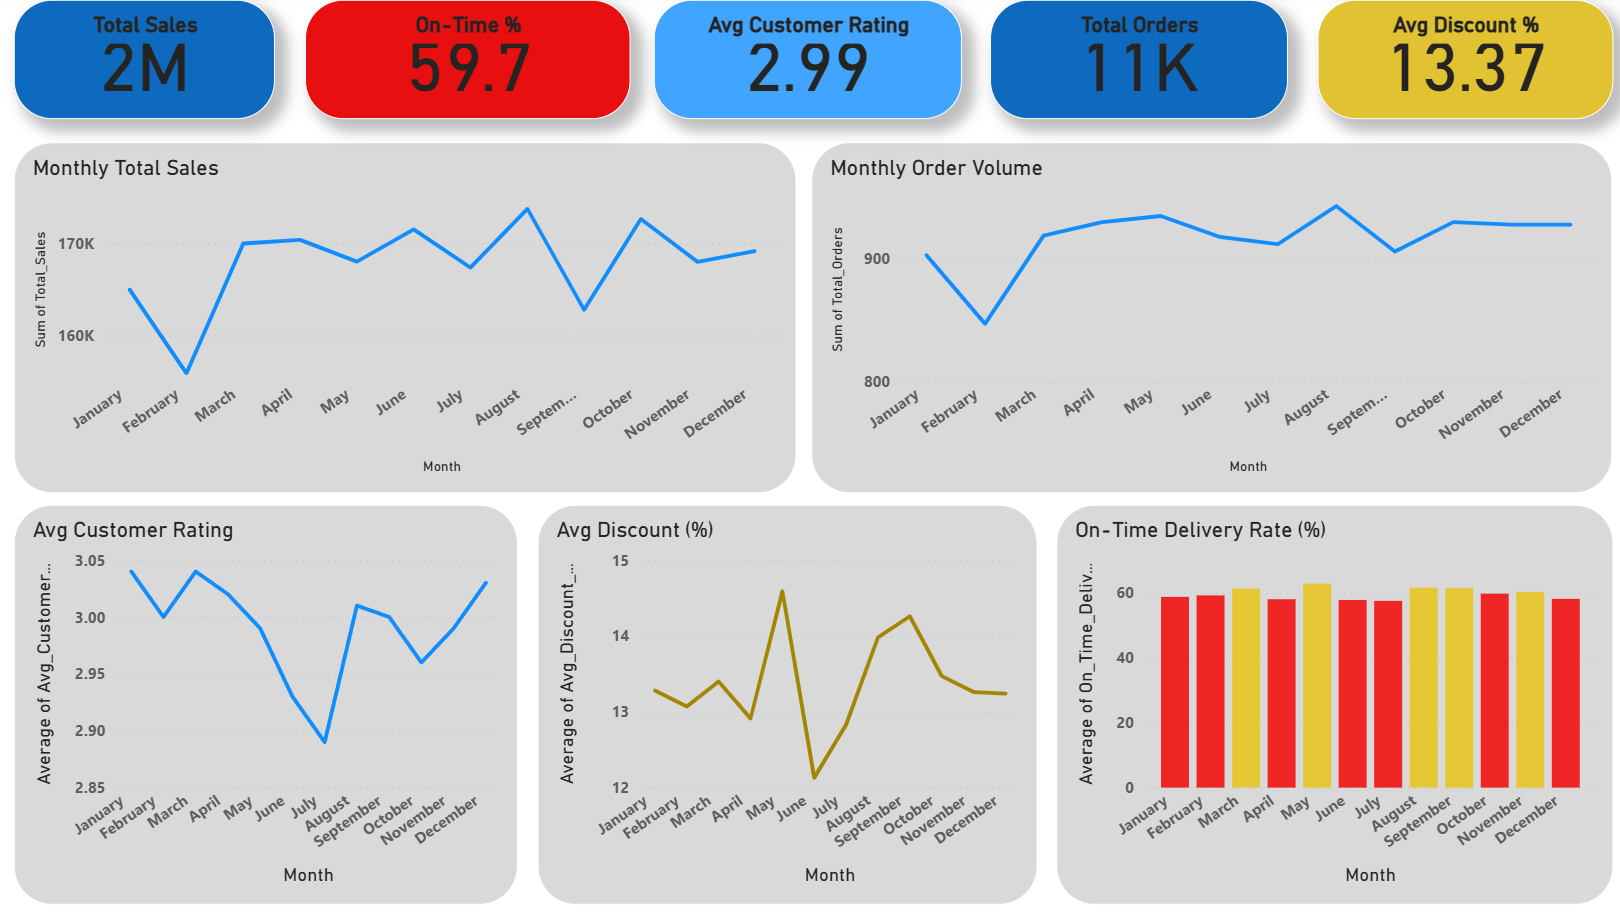

The page's visual inventory and layout, read from the dashboard file:
{"tool":"powerbi","page":{"name":"SQL-Based Supply Chain Insights","canvas":[1280,720],"ordinal":0},"visuals":[{"type":"lineChart","title":"Monthly Order Volume","fields":{"Category":["SupplyChain_Sql_Insights.Month.Variation.Date Hierarchy.Month"],"Y":["Sum(SupplyChain_Sql_Insights.Total_Orders)"]},"box":[640,115,628.3,275],"z":0},{"type":"columnChart","title":"On-Time Delivery Rate (%)","fields":{"Category":["SupplyChain_Sql_Insights.Month.Variation.Date Hierarchy.Month"],"Y":["Avg(SupplyChain_Sql_Insights.On_Time_Delivery_Rate (%))"]},"box":[831.7,398.3,436.7,313.3],"z":1000},{"type":"lineChart","title":"Avg Customer Rating","fields":{"Category":["SupplyChain_Sql_Insights.Month.Variation.Date Hierarchy.Month"],"Y":["Avg(SupplyChain_Sql_Insights.Avg_Customer_Rating)"]},"box":[15,398.3,395,313.3],"z":2000},{"type":"lineChart","title":"Avg Discount (%)","fields":{"Category":["SupplyChain_Sql_Insights.Month.Variation.Date Hierarchy.Month"],"Y":["Avg(SupplyChain_Sql_Insights.Avg_Discount_Offered)"]},"box":[425,398.3,391.7,313.3],"z":3000},{"type":"lineChart","title":"Monthly Total Sales","fields":{"Category":["SupplyChain_Sql_Insights.Month.Variation.Date Hierarchy.Month"],"Y":["Sum(SupplyChain_Sql_Insights.Total_Sales)"]},"box":[15,115,613.3,275],"z":4000},{"type":"card","title":"Total Sales","fields":{"Values":["Sum(SupplyChain_Sql_Insights.Total_Sales)"]},"box":[15,3.3,205,93.3],"z":5000},{"type":"card","title":"On-Time %","fields":{"Values":["Avg(SupplyChain_Sql_Insights.On_Time_Delivery_Rate (%))"]},"box":[243.3,3.3,255,93.3],"z":6000},{"type":"card","title":"Avg Customer Rating","fields":{"Values":["Avg(SupplyChain_Sql_Insights.Avg_Customer_Rating)"]},"box":[516.7,3.3,241.7,93.3],"z":7000},{"type":"card","title":"Total Orders","fields":{"Values":["Sum(SupplyChain_Sql_Insights.Total_Orders)"]},"box":[780,3.3,233.3,93.3],"z":8000},{"type":"card","title":"Avg Discount %","fields":{"Values":["Avg(SupplyChain_Sql_Insights.Avg_Discount_Offered)"]},"box":[1036.7,3.3,231.7,93.3],"z":9000}]}

Visuals, with their boxes in screenshot pixels (x1, y1, x2, y2), scaled from the page's 1280x720 canvas onto the 1620x912 screenshot:
"Monthly Order Volume" lineChart: select_region(810, 146, 1605, 494)
"On-Time Delivery Rate (%)" columnChart: select_region(1053, 505, 1605, 901)
"Avg Customer Rating" lineChart: select_region(19, 505, 519, 901)
"Avg Discount (%)" lineChart: select_region(538, 505, 1034, 901)
"Monthly Total Sales" lineChart: select_region(19, 146, 795, 494)
"Total Sales" card: select_region(19, 4, 278, 122)
"On-Time %" card: select_region(308, 4, 631, 122)
"Avg Customer Rating" card: select_region(654, 4, 960, 122)
"Total Orders" card: select_region(987, 4, 1282, 122)
"Avg Discount %" card: select_region(1312, 4, 1605, 122)
